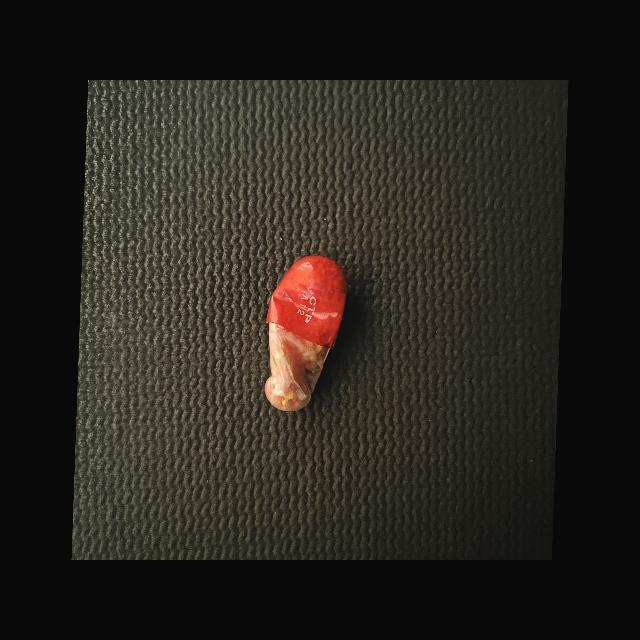Defective Capsule: (265, 256, 348, 411)
